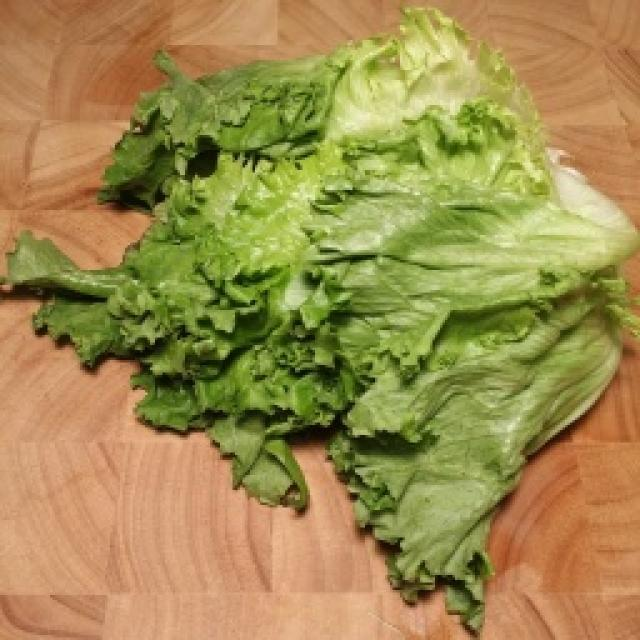Lettuce-Ready-to-Harvest: (8, 10, 640, 629)
